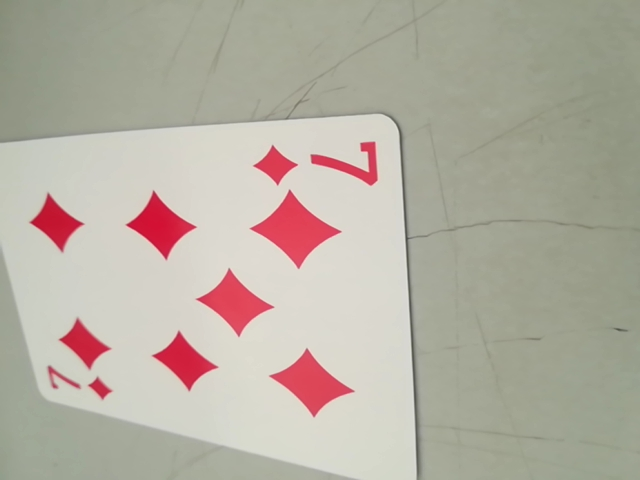fk 7: (249, 129, 381, 189), (34, 364, 117, 407)
